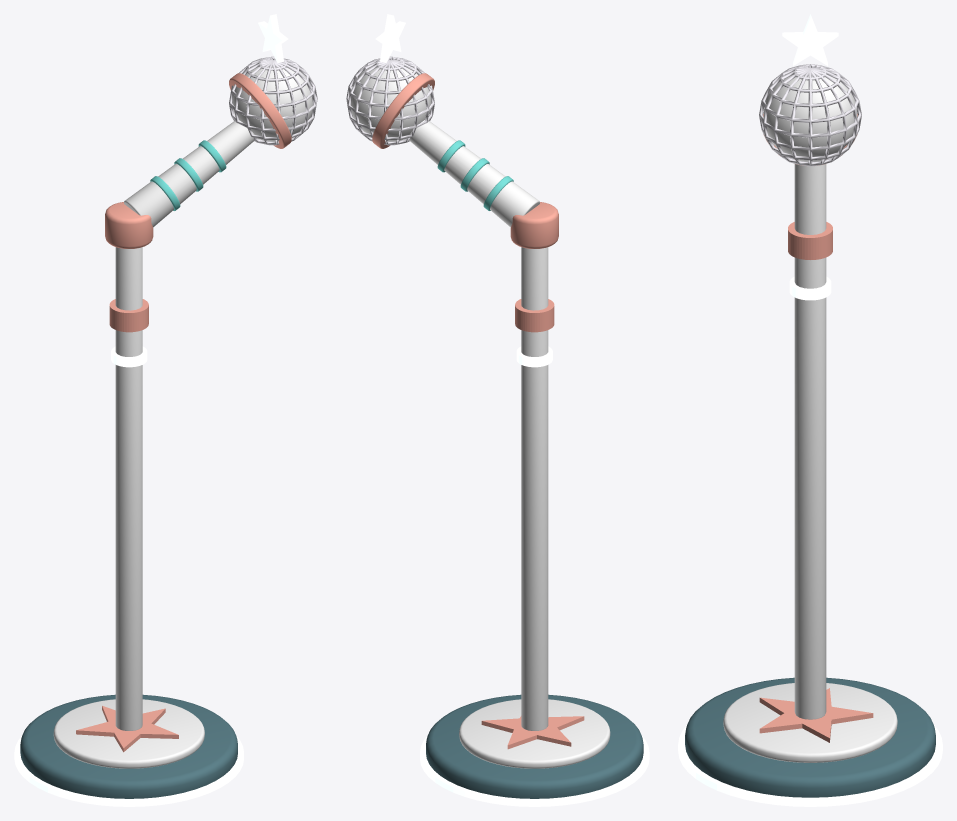
The model's file is SpotlightMic.fbx.
3 views of the same model, side by side, from view 1: azimuth 30°, elevation 25°; view 2: azimuth 150°, elevation 25°; view 3: azimuth 270°, elevation 25° (orthographic). The views are drawn at different scales.
Visible parts, largest first — view 1: SpotlightMic_FFFFFF, SpotlightMic_17323B, SpotlightMic_FF6F59, SpotlightMic_2EC4B6_Neon, SpotlightMic_E8E2F2_Metal, SpotlightMic_FFFFFF_Metal, SpotlightMic_FF6F59_Neon, SpotlightMic_2EC4B6; view 2: SpotlightMic_FFFFFF, SpotlightMic_17323B, SpotlightMic_FF6F59, SpotlightMic_2EC4B6_Neon, SpotlightMic_E8E2F2_Metal, SpotlightMic_FFFFFF_Metal, SpotlightMic_FF6F59_Neon, SpotlightMic_2EC4B6; view 3: SpotlightMic_FFFFFF, SpotlightMic_17323B, SpotlightMic_E8E2F2_Metal, SpotlightMic_2EC4B6_Neon, SpotlightMic_FFFFFF_Metal, SpotlightMic_FF6F59, SpotlightMic_FF6F59_Neon.
Boxes of the visible parts, <box> form: SpotlightMic_FFFFFF: <box>53,120,254,768</box>; SpotlightMic_17323B: <box>20,694,237,798</box>; SpotlightMic_FF6F59: <box>76,73,291,752</box>; SpotlightMic_2EC4B6_Neon: <box>14,14,288,806</box>; SpotlightMic_E8E2F2_Metal: <box>229,56,317,145</box>; SpotlightMic_FFFFFF_Metal: <box>232,67,313,141</box>; SpotlightMic_FF6F59_Neon: <box>109,299,148,332</box>; SpotlightMic_2EC4B6: <box>150,140,226,210</box>; SpotlightMic_FFFFFF: <box>409,120,610,768</box>; SpotlightMic_17323B: <box>426,694,643,798</box>; SpotlightMic_FF6F59: <box>372,73,584,749</box>; SpotlightMic_2EC4B6_Neon: <box>375,14,649,806</box>; SpotlightMic_E8E2F2_Metal: <box>346,56,434,145</box>; SpotlightMic_FFFFFF_Metal: <box>350,67,431,141</box>; SpotlightMic_FF6F59_Neon: <box>515,299,554,332</box>; SpotlightMic_2EC4B6: <box>437,140,513,210</box>; SpotlightMic_FFFFFF: <box>723,164,897,762</box>; SpotlightMic_17323B: <box>685,677,935,797</box>; SpotlightMic_E8E2F2_Metal: <box>759,64,861,166</box>; SpotlightMic_2EC4B6_Neon: <box>678,14,942,806</box>; SpotlightMic_FFFFFF_Metal: <box>763,76,857,161</box>; SpotlightMic_FF6F59: <box>759,114,873,742</box>; SpotlightMic_FF6F59_Neon: <box>788,222,832,259</box>.
Size of the model in its own units: 216 by 518 by 152.
